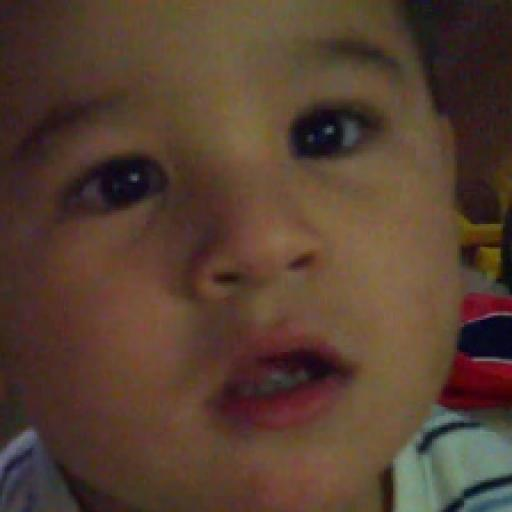Autism: (0, 0, 485, 503)
